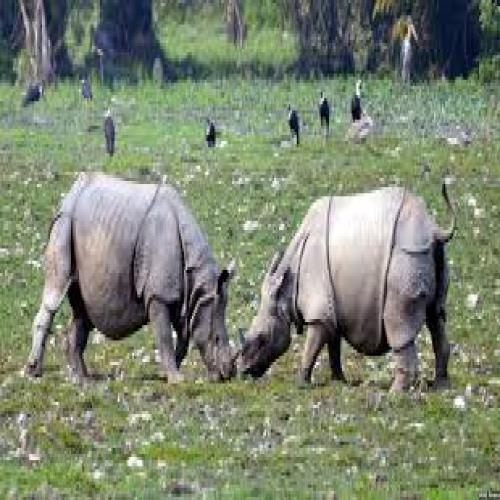rhino-endangered: (29, 170, 240, 396), (240, 182, 458, 395)
